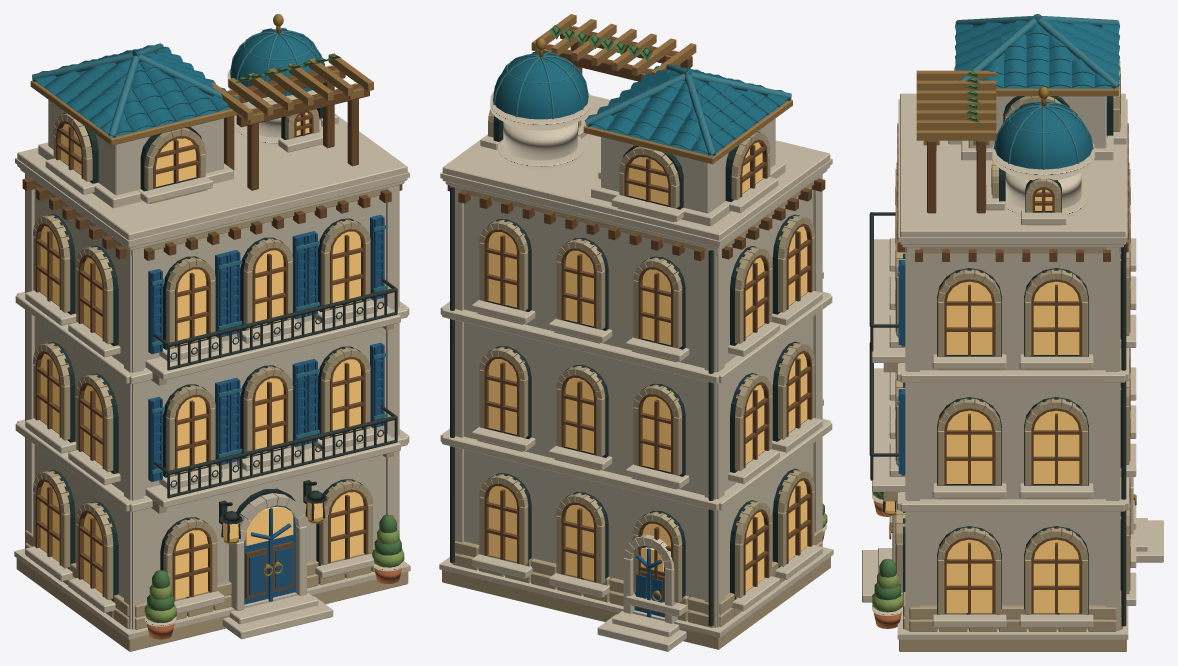
3 views of the same model, side by side, from view 1: azimuth 30°, elevation 25°; view 2: azimuth 150°, elevation 25°; view 3: azimuth 270°, elevation 25° (orthographic).
Visible parts, largest first — view 1: harbor_villa_3_geometry; view 2: harbor_villa_3_geometry; view 3: harbor_villa_3_geometry.
Boxes of the visible parts, x1,y1,x2,y2 form: harbor_villa_3_geometry: (14, 14, 410, 651); harbor_villa_3_geometry: (439, 14, 833, 651); harbor_villa_3_geometry: (862, 14, 1163, 651).
Bounding box in the file's own units: 0.99 × 1.7 × 0.8667.
